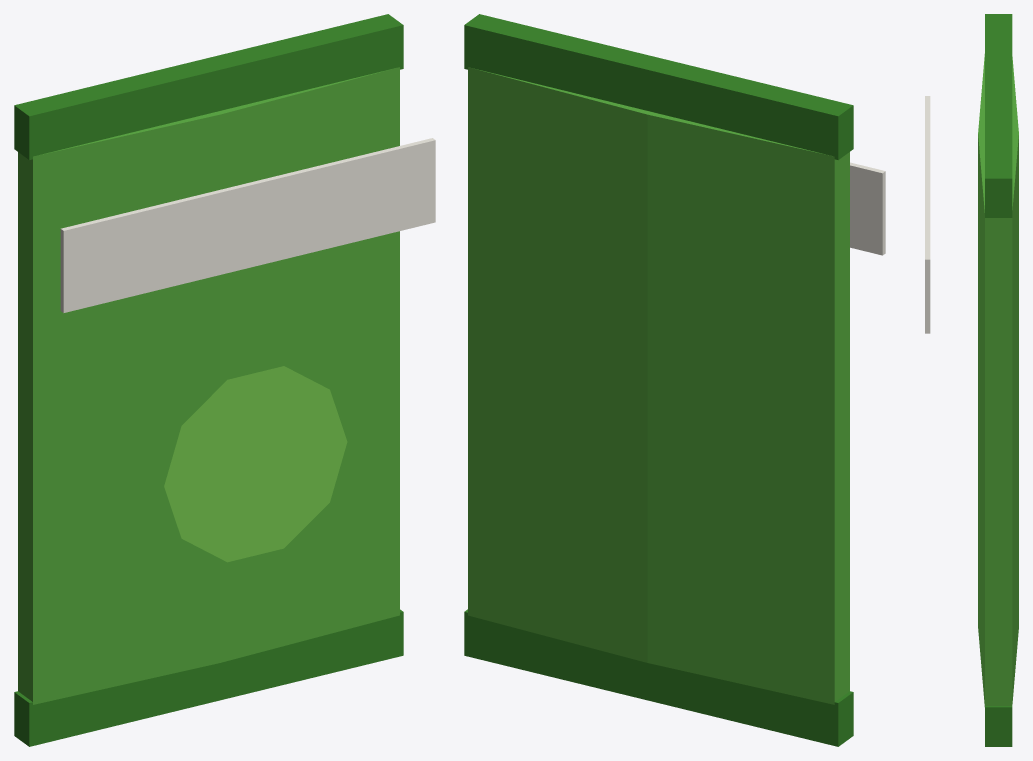
File: g-peas.glb
3 renders of one model, left to right at view 1: azimuth 30°, elevation 25°; view 2: azimuth 150°, elevation 25°; view 3: azimuth 270°, elevation 25°, orthographic. The views are drawn at different scales.
Parts seen in each view (by area): view 1: g_peas; view 2: g_peas; view 3: g_peas.
Boxes of the visible parts, box(x1,y1,x2,y2) form: g_peas: box(14, 14, 435, 746); g_peas: box(464, 14, 885, 746); g_peas: box(925, 14, 1018, 746).
Size of the model in its own units: 0.1428 by 0.23 by 0.0385.
